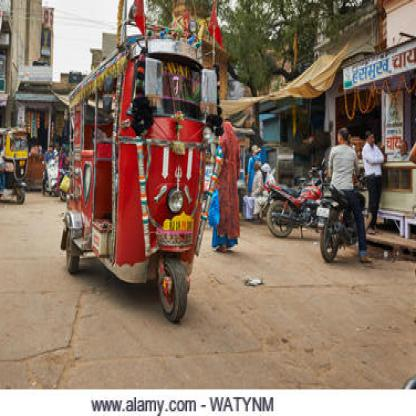motorcycle: (318, 126, 372, 268), (266, 174, 327, 240)
